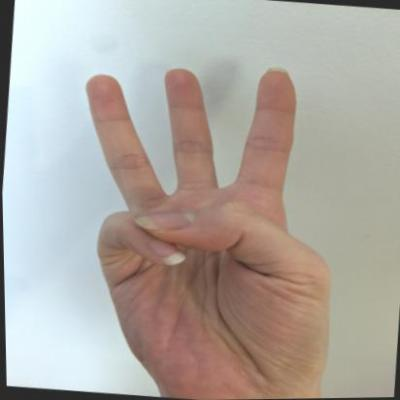hand: (50, 45, 361, 399)
